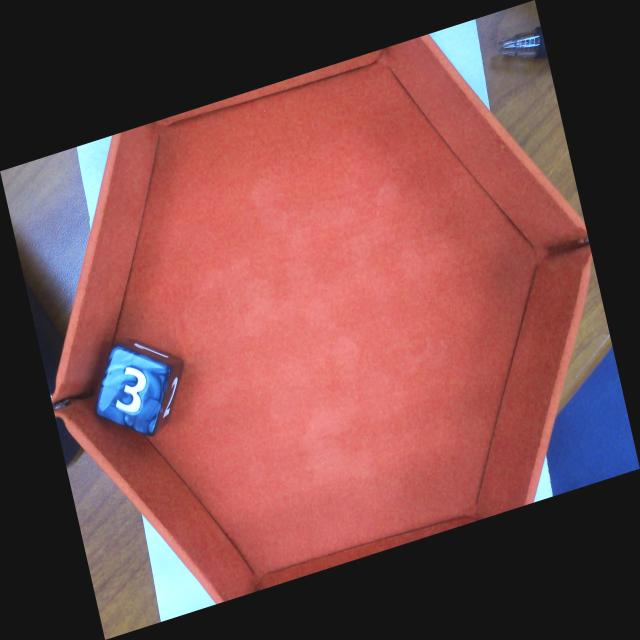dice: (99, 349, 169, 433)
